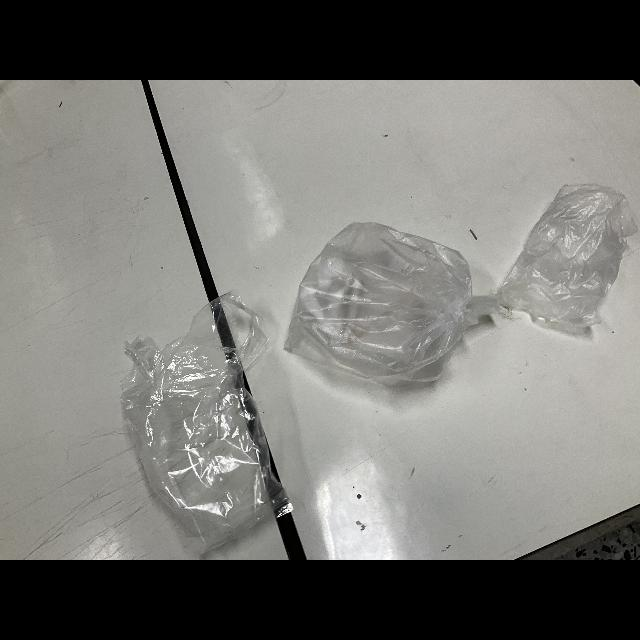plastic_bag: (115, 291, 292, 557), (279, 216, 487, 394), (490, 180, 630, 338)
